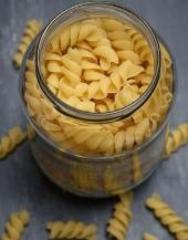glass: (20, 2, 176, 198)
